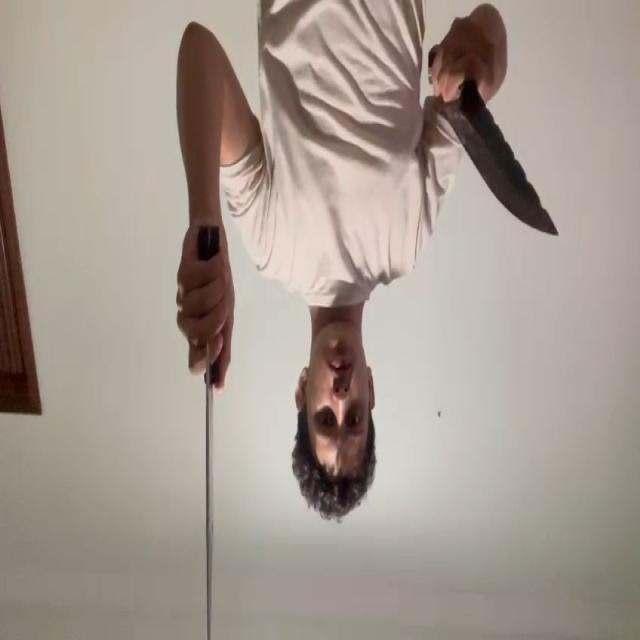knife: (447, 104, 558, 235), (204, 357, 213, 637)
